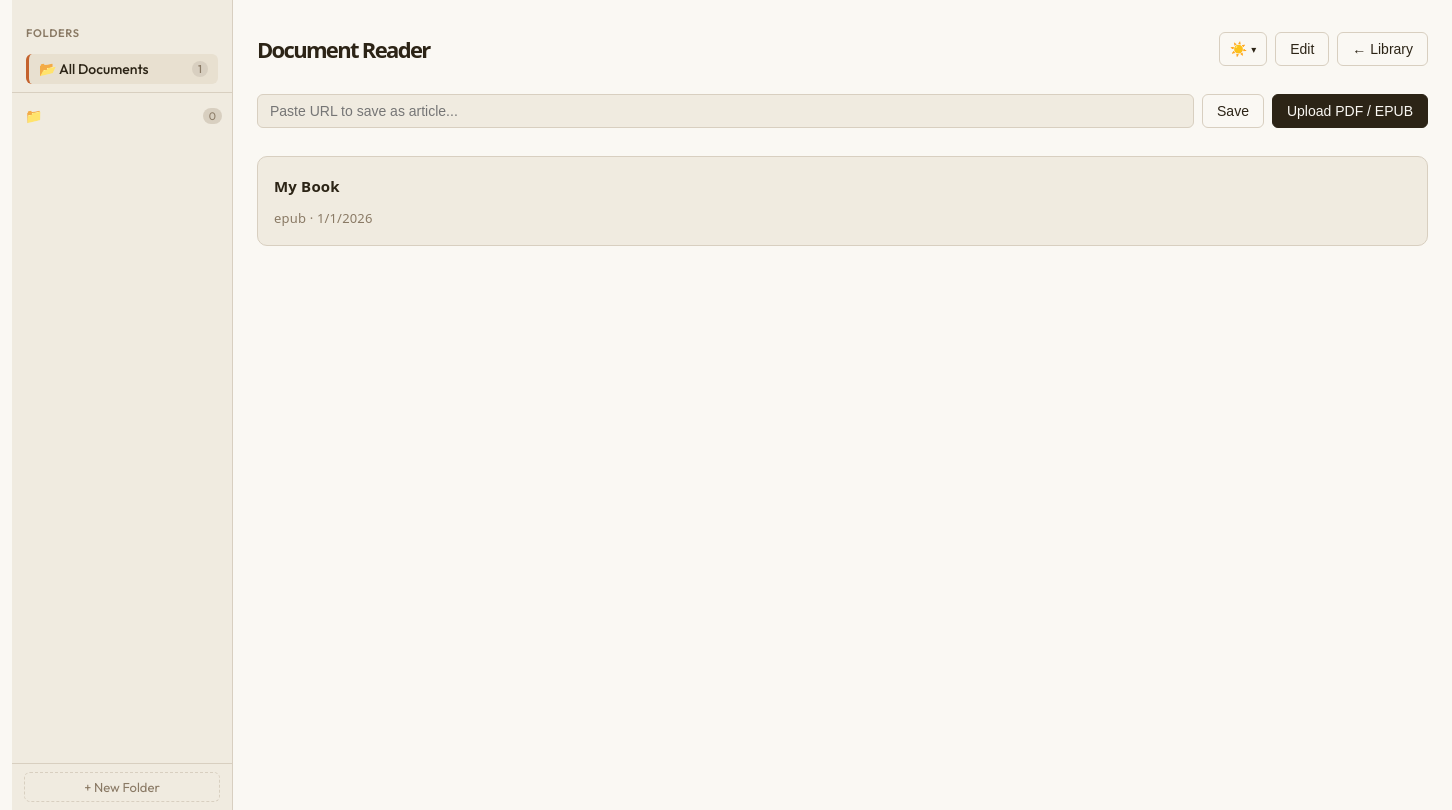
it: failed delete shows error and keeps card
This screenshot has width=1452, height=810.
Expected: the text "My Book" is shown, [274,176,340,196]
Click the button "Edit": (1302, 49) [1275,32,1329,66]
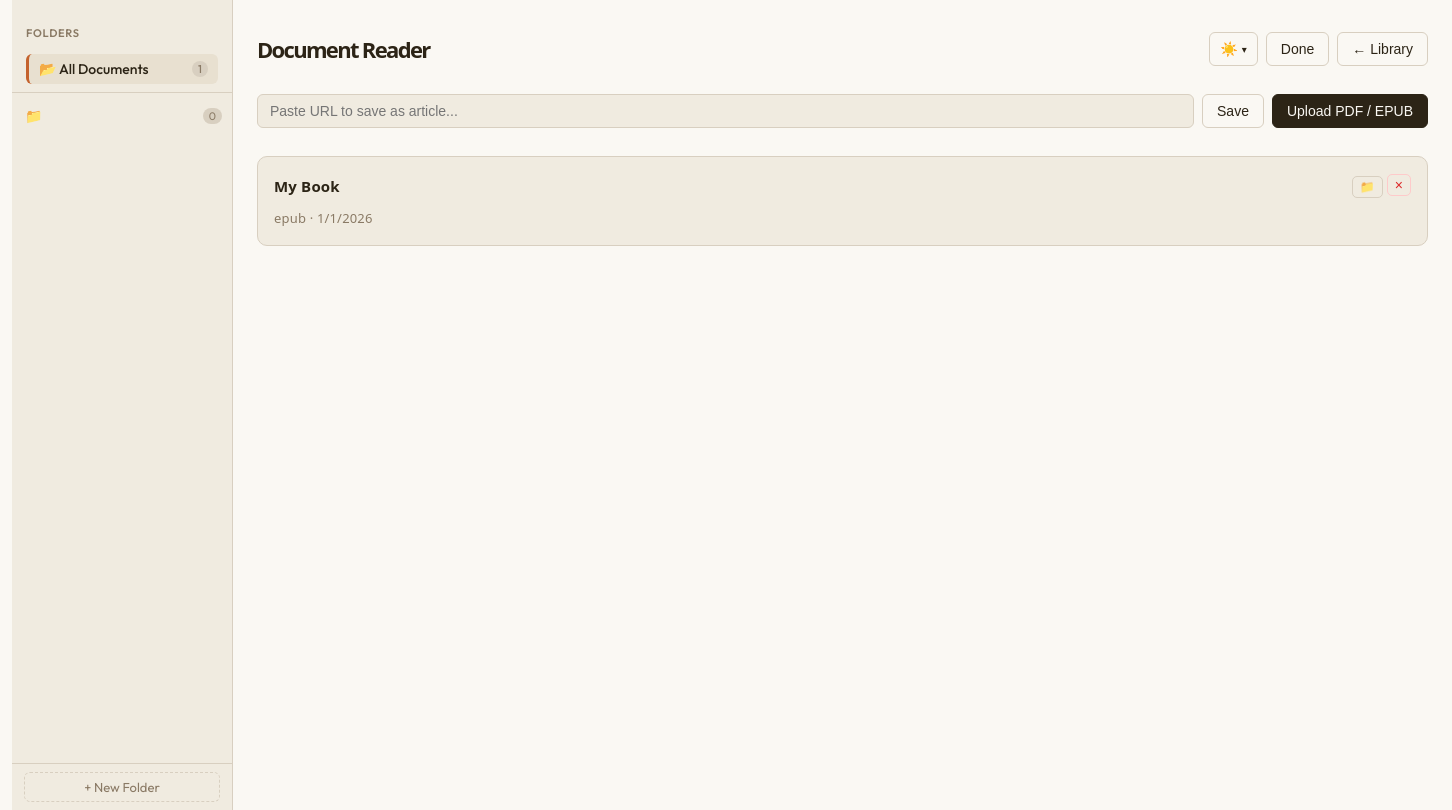
Click the button named "delete my book": (1399, 184) [1387,174,1411,196]
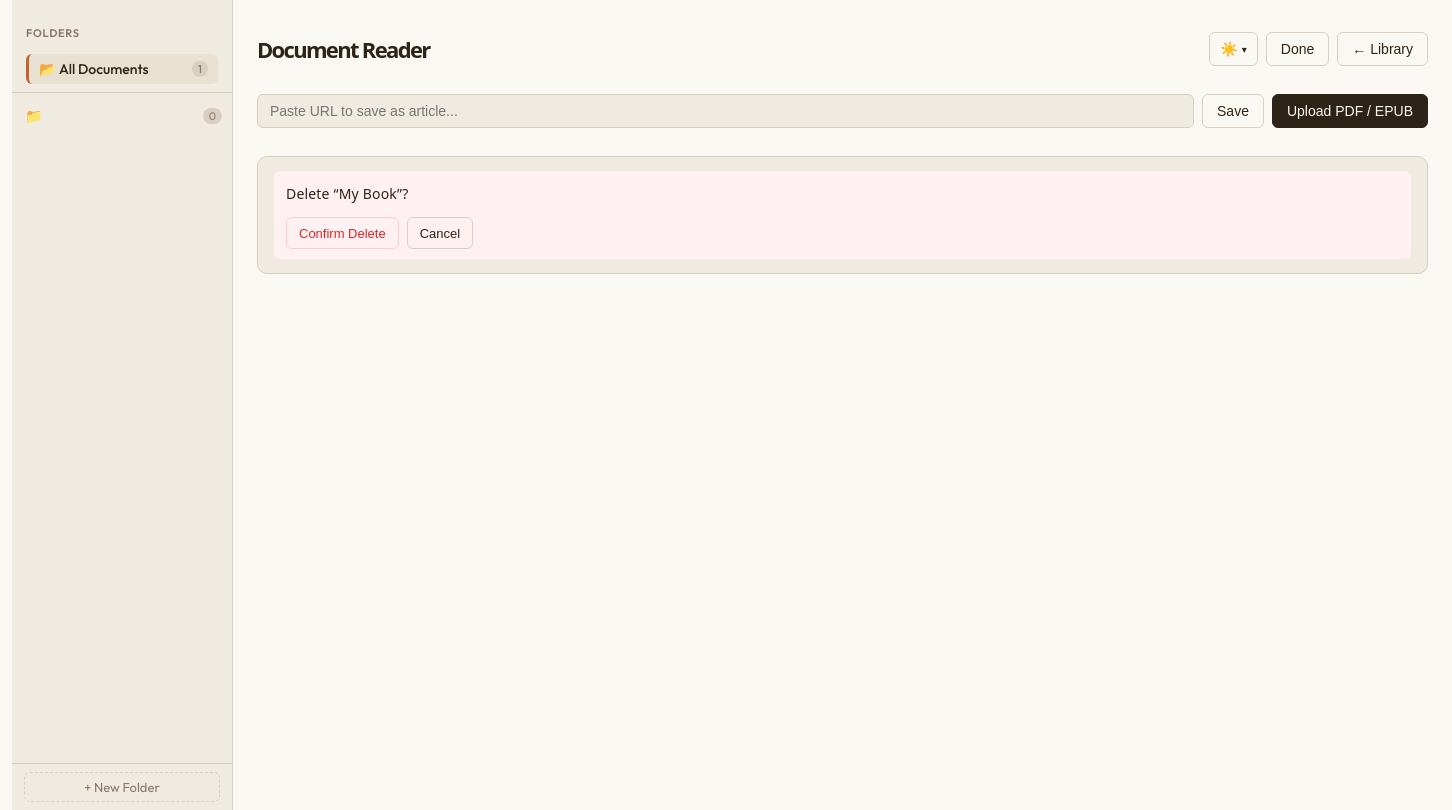
Click the button "Confirm Delete": (342, 233) [286,217,399,249]
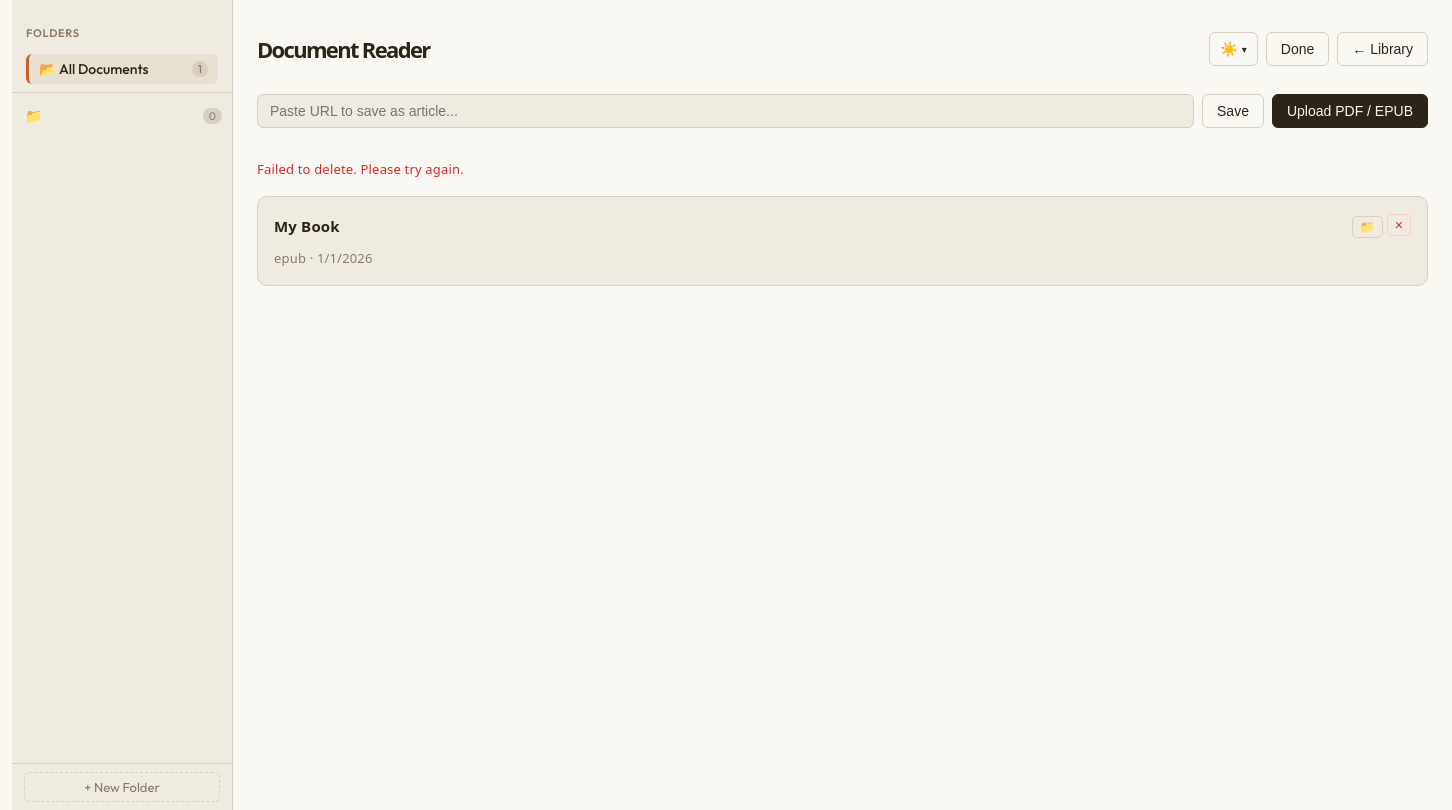
Expected: the text "My Book" is shown, [274,216,340,236]
Expected: the text "Failed to delete. Please try again." is shown, [257,160,464,178]
